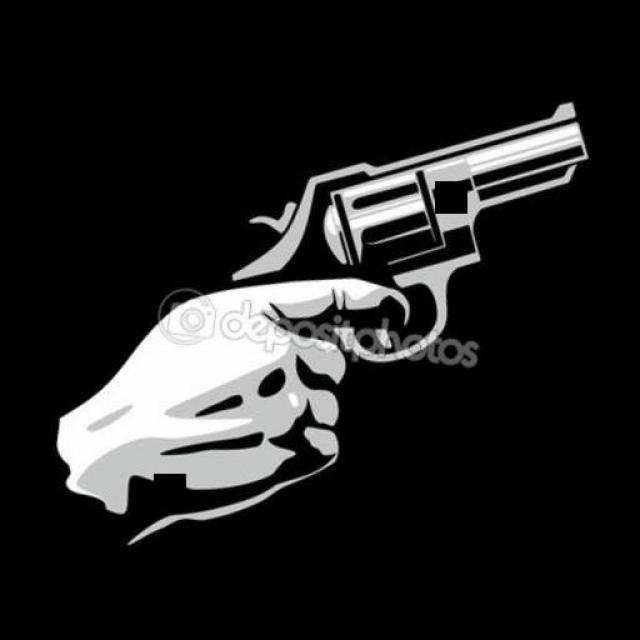gun: (213, 55, 608, 396)
